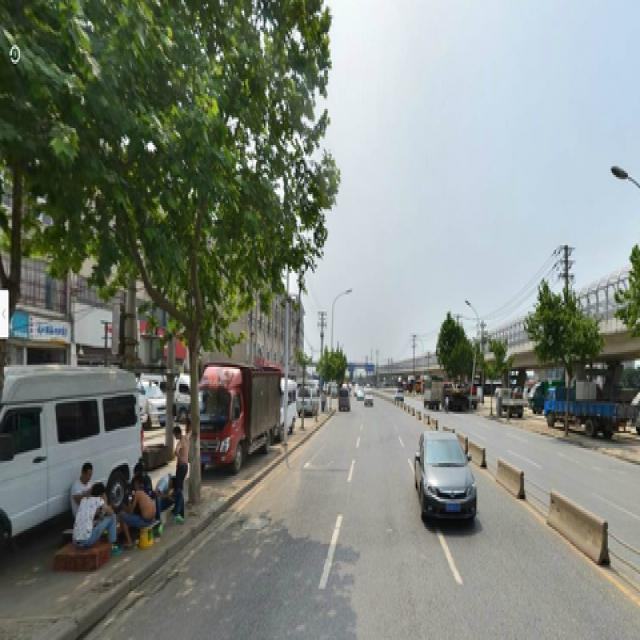meta: (124, 12, 303, 490)
